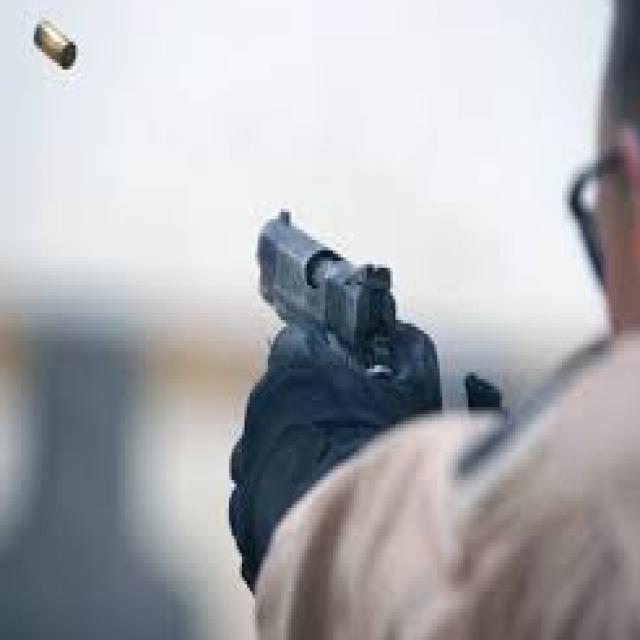gun: (222, 196, 410, 402)
